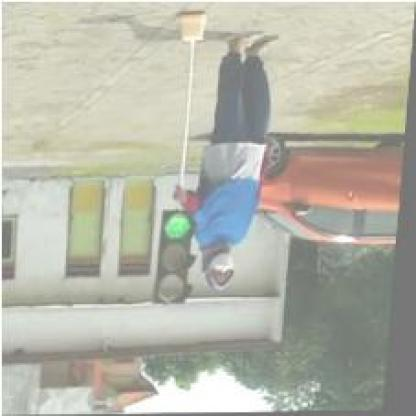green: (155, 209, 201, 308)
